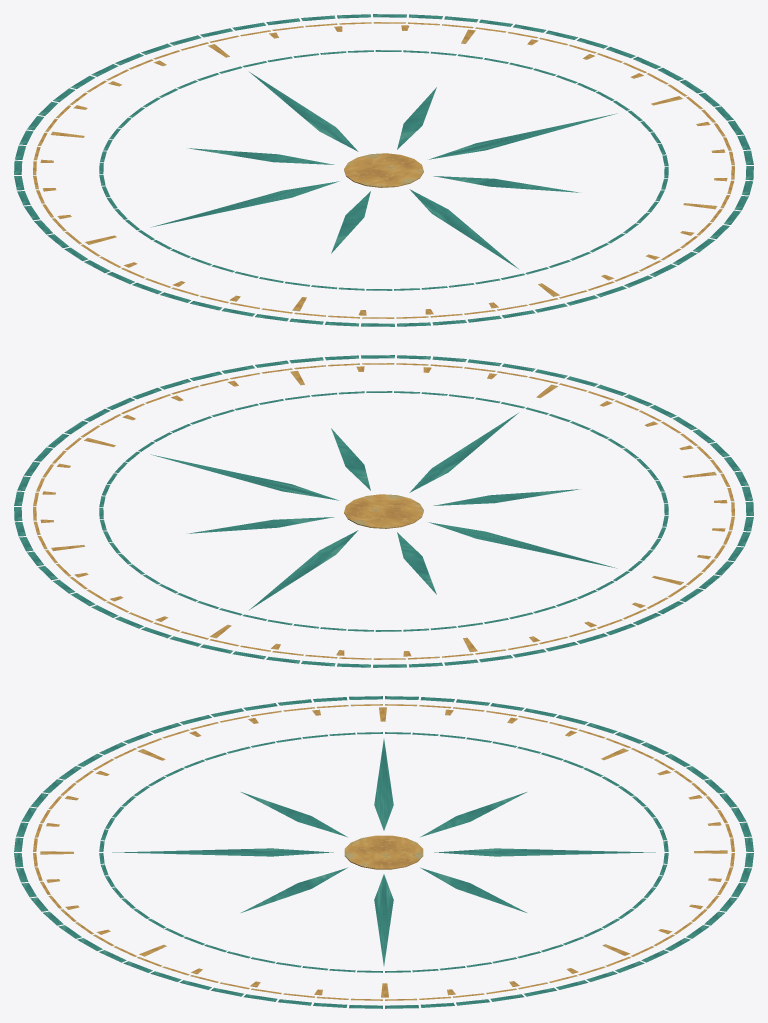
The model's file is MeridianDial.fbx.
3 views of the same model, one above another, from view 1: azimuth 30°, elevation 25°; view 2: azimuth 150°, elevation 25°; view 3: azimuth 270°, elevation 25° (orthographic).
Visible parts, largest first — view 1: MeridianDial; view 2: MeridianDial; view 3: MeridianDial.
Part boxes in pixels (x1,y1,x2,y2): MeridianDial: (14,14,753,326); MeridianDial: (14,355,753,667); MeridianDial: (14,696,753,1008).
Bounding box in the file's own units: 960 × 1.2 × 960.
Materials: 1 (1 with a texture image).
